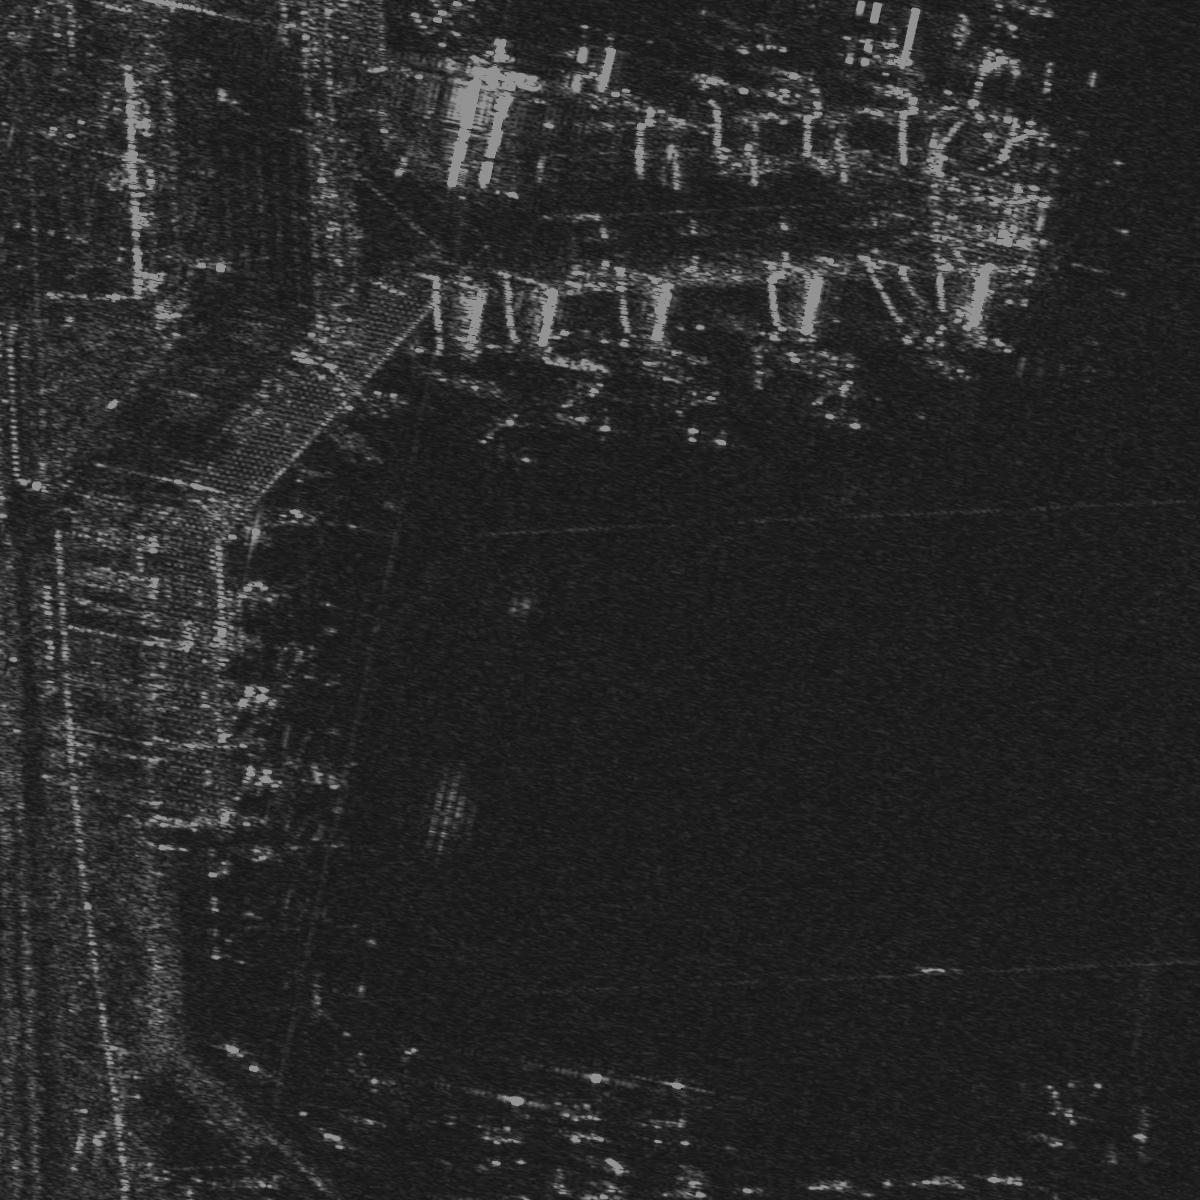A220: (537, 1064, 613, 1154), (557, 362, 631, 434)
A320/321: (1020, 1067, 1110, 1133)
Boeing737: (451, 1084, 532, 1157), (479, 391, 545, 468)
Boeing787: (665, 355, 729, 445)
other: (630, 1075, 701, 1152), (809, 357, 881, 431)
